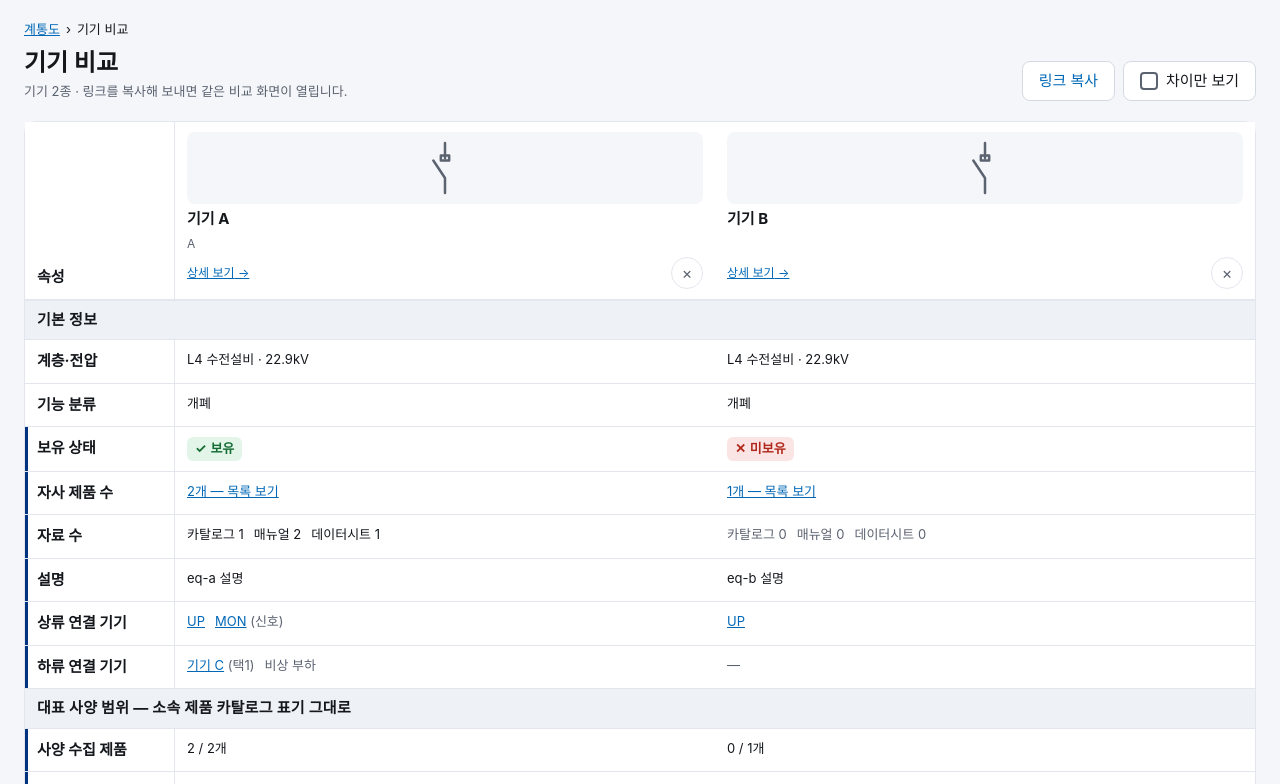
Test: CT-07 기기 비교 (/compare?type=equipment) › 차이만 보기: 모든 열 값이 같은 행(계층·분류)을 숨기고 건수 안내, 다시 누르면 복원 (상류는 eq-a 에만 신호선 → 다름)
Later steps or results of the test are not shown.
Click the button with test id "compare-diff-only" at (1190, 81), box [1123,61,1256,101]
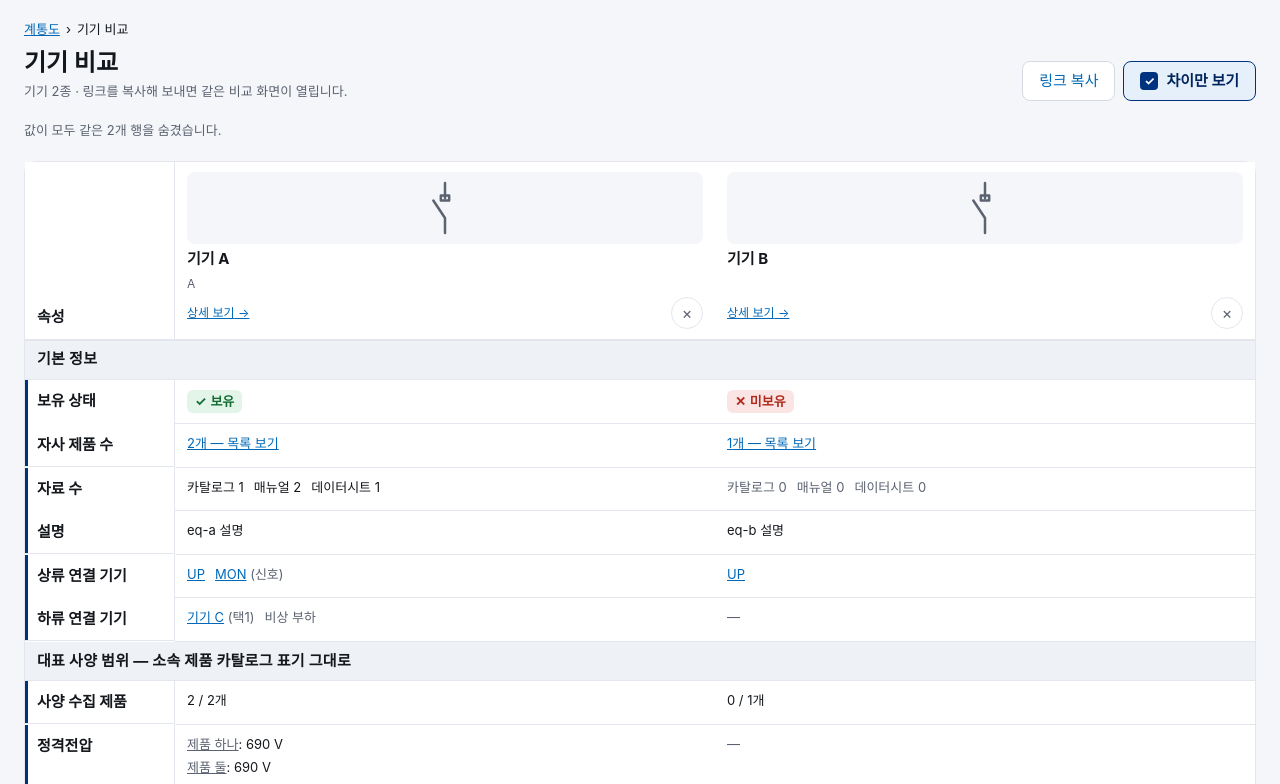
Check: the text "값이 모두 같은 2개 행을 숨겼습니다." is shown, box [24,122,221,138]
